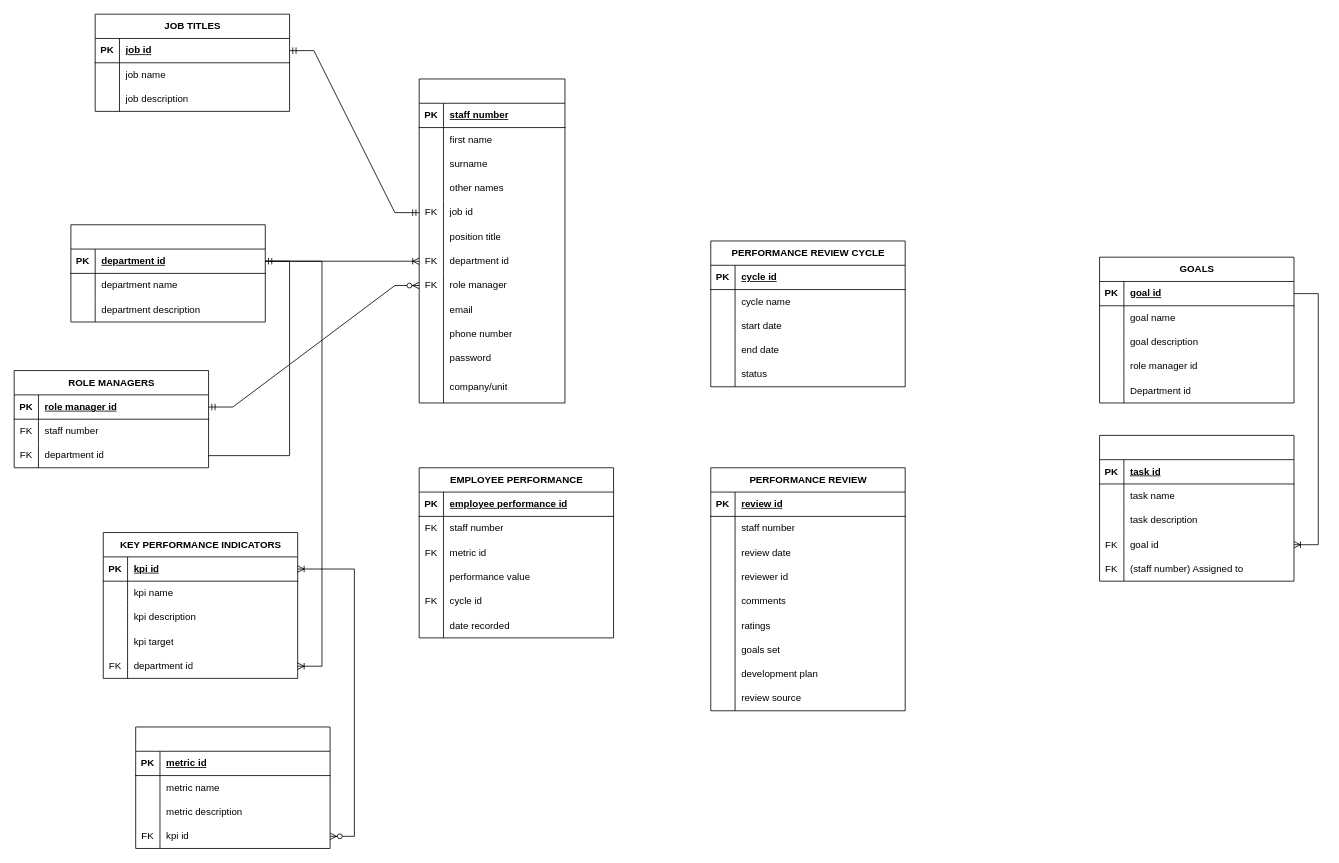
The diagram is 1339 pixels wide and 863 high, and some of its shapes have lost their labels. The box of each missing label's shape, as (x1, y1, x2, y2) in pixels:
DEPARTMENTS: (70, 224, 265, 322)
EMPLOYEES: (418, 78, 565, 403)
KPI METRICS: (135, 726, 330, 848)
TASKS: (1099, 435, 1294, 581)
